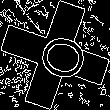O_W: (24, 26, 86, 84)
